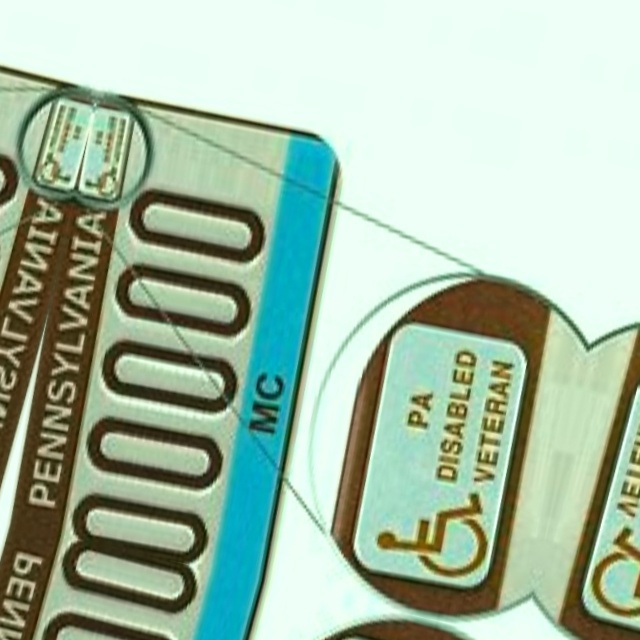ISA: (366, 466, 508, 593), (576, 514, 640, 640), (29, 145, 78, 193), (79, 157, 127, 204), (326, 639, 469, 640)
